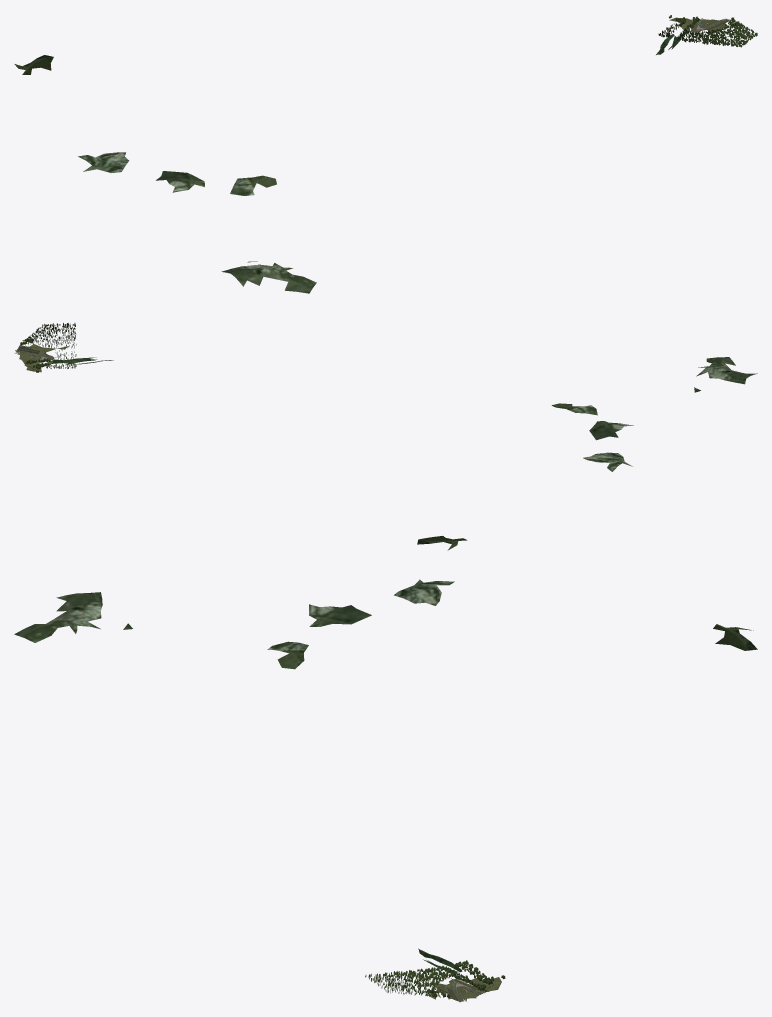
3 renders of one model, top to bottom at view 1: azimuth 30°, elevation 25°; view 2: azimuth 150°, elevation 25°; view 3: azimuth 270°, elevation 25°, orthographic. The views are drawn at different scales.
Visible parts, largest first — view 1: tile_t00; view 2: tile_t00; view 3: tile_t00.
Boxes of the visible parts, x1=… form: tile_t00: x1=14, y1=15, x2=757, y2=293; tile_t00: x1=15, y1=323, x2=757, y2=550; tile_t00: x1=14, y1=579, x2=757, y2=1002.
Bounding box in the file's own units: 5707 × 244 × 4509.
33 materials, 33 textured.
